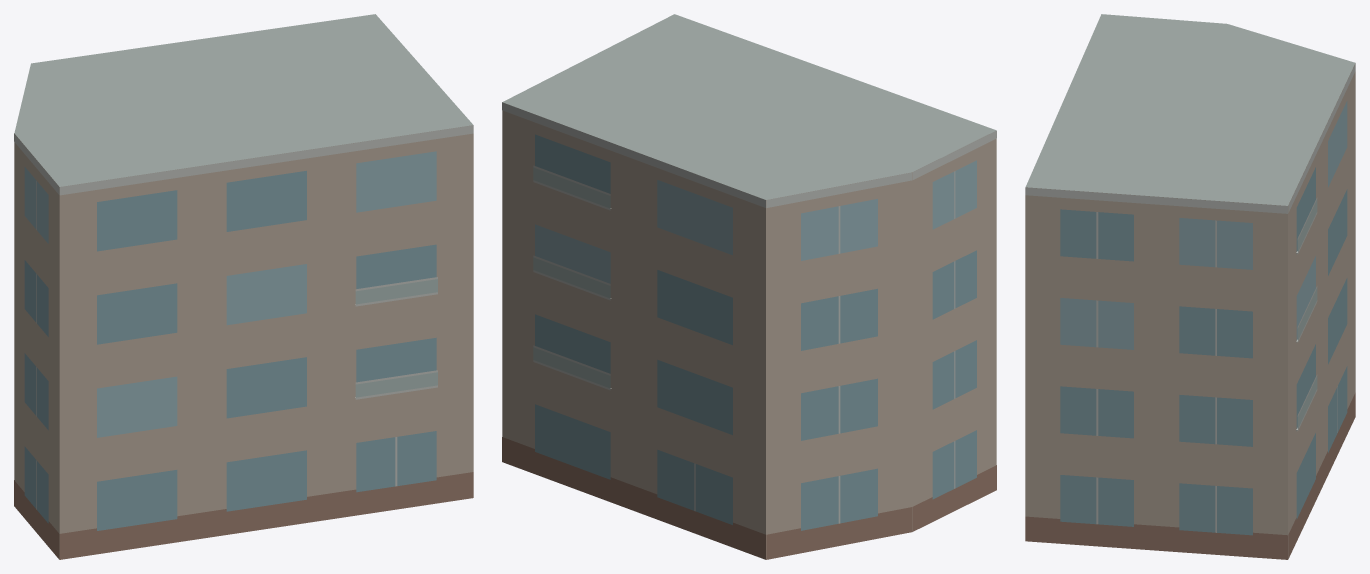
File: survey-upis-32536526.glb
3 renders of one model, left to right at view 1: azimuth 30°, elevation 25°; view 2: azimuth 150°, elevation 25°; view 3: azimuth 270°, elevation 25°, orthographic. The views are drawn at different scales.
Visible parts, largest first — view 1: survey-upis-32536526.tmp; view 2: survey-upis-32536526.tmp; view 3: survey-upis-32536526.tmp.
Boxes of the visible parts, box(x1,y1,x2,y2) form: survey-upis-32536526.tmp: box(14, 14, 473, 559); survey-upis-32536526.tmp: box(502, 14, 996, 559); survey-upis-32536526.tmp: box(1025, 14, 1355, 559).
Bounding box in the file's own units: 12.57 × 10.8 × 9.14.
